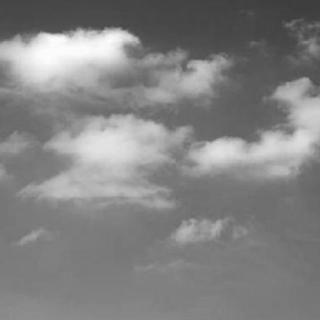Cirrocumulus: (0, 28, 320, 264)
